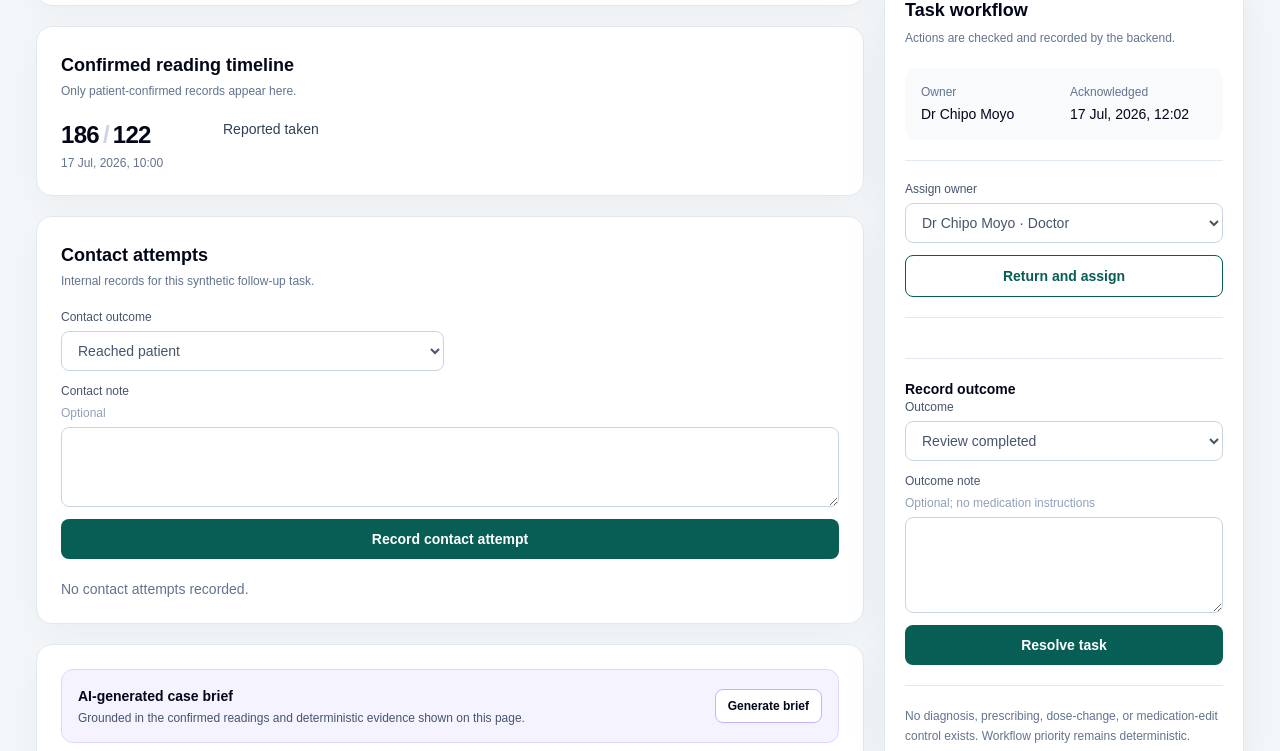
Test case: ClinicianTaskDetailPage › records contact and requires approval before simulated message sending
(page scrolled)
Check: the button "Record contact attempt" is shown, box x1=61 y1=519 x2=839 y2=559
Select "Message left" in the dropdown labelled "Contact outcome" at (252,351), box x1=61 y1=331 x2=444 y2=371
Type "Synthetic contact note." into the text box labelled "Contact note Optional" at (450,467), box x1=61 y1=427 x2=839 y2=507
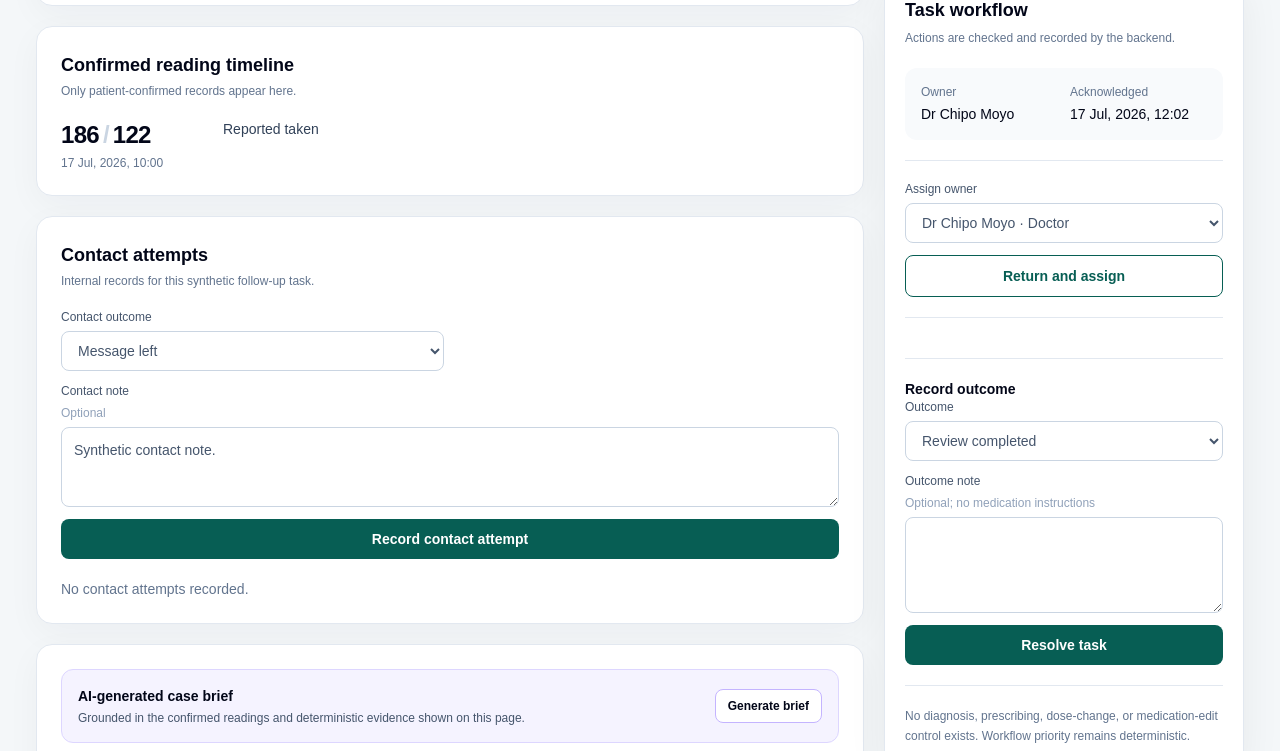
Click the button "Record contact attempt" at (450,539), box x1=61 y1=519 x2=839 y2=559
(page scrolled)
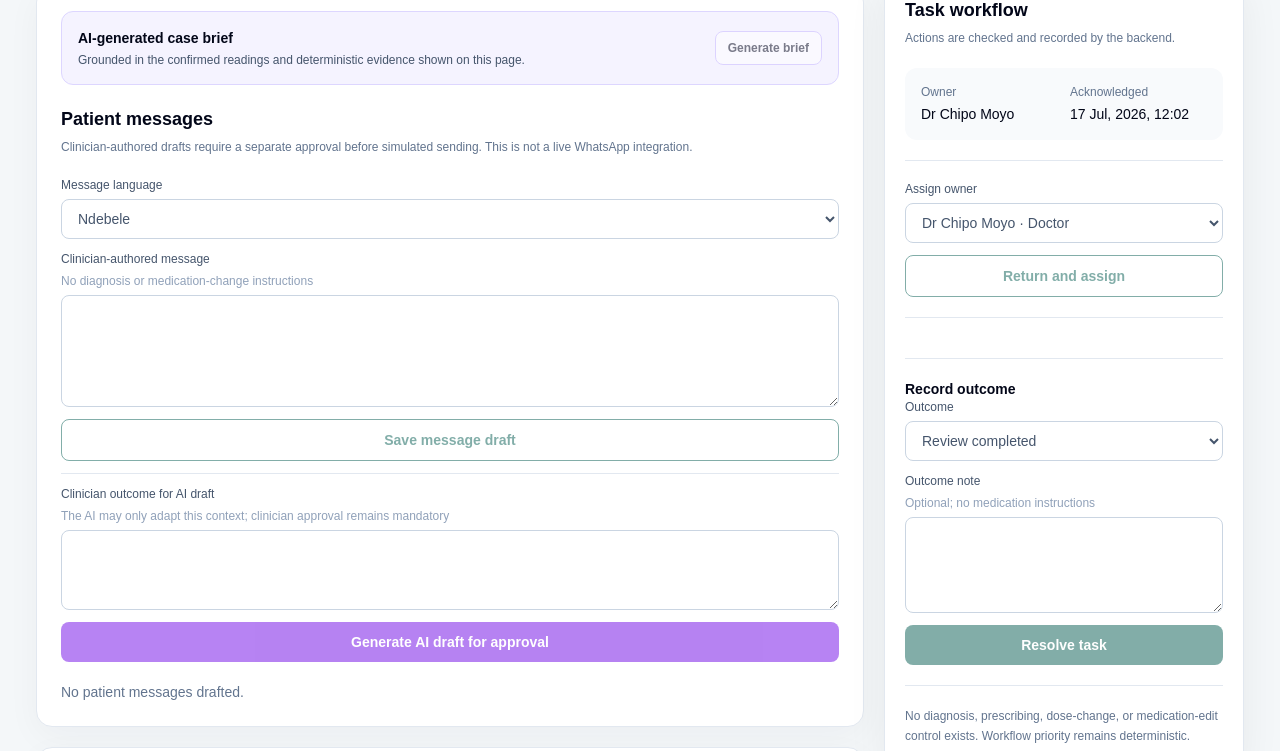
Type "Sicela ubuye eklinikhi." into the text box labelled "Clinician-authored message" at (450,351), box x1=61 y1=295 x2=839 y2=407
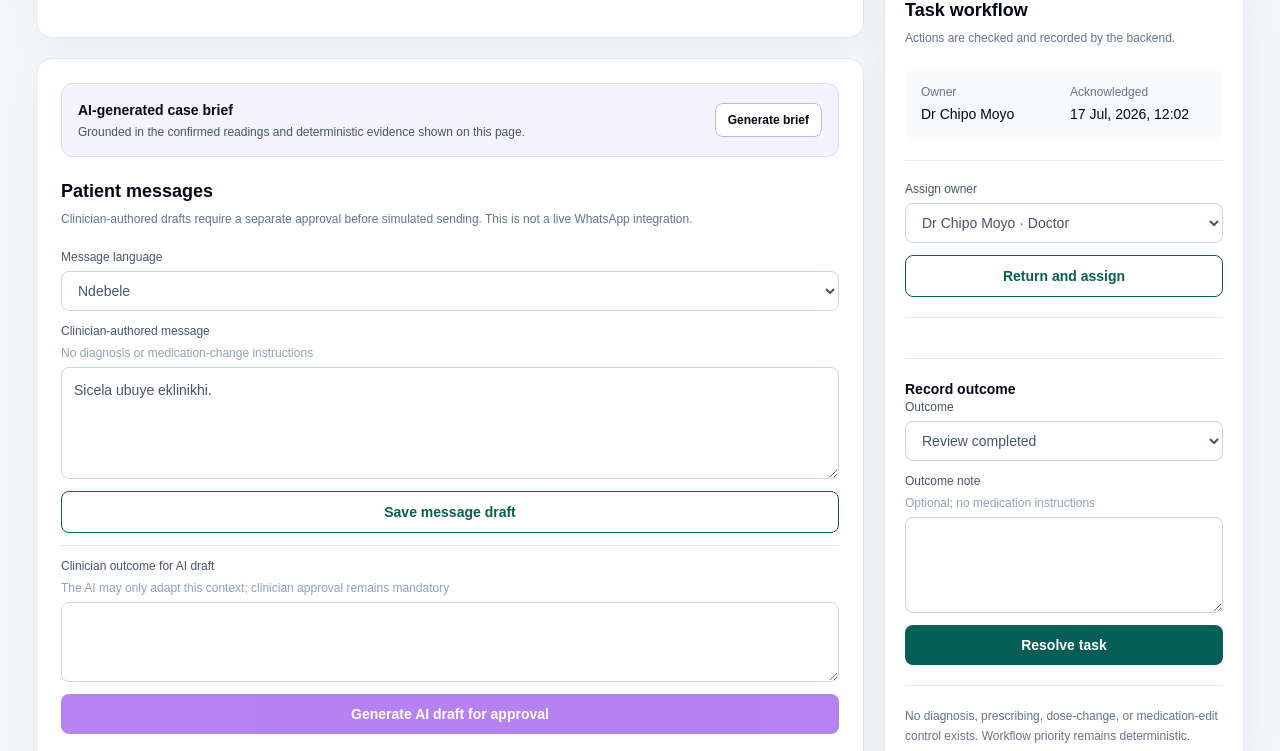
Click the button "Save message draft" at (450,512), box x1=61 y1=491 x2=839 y2=533
(page scrolled)
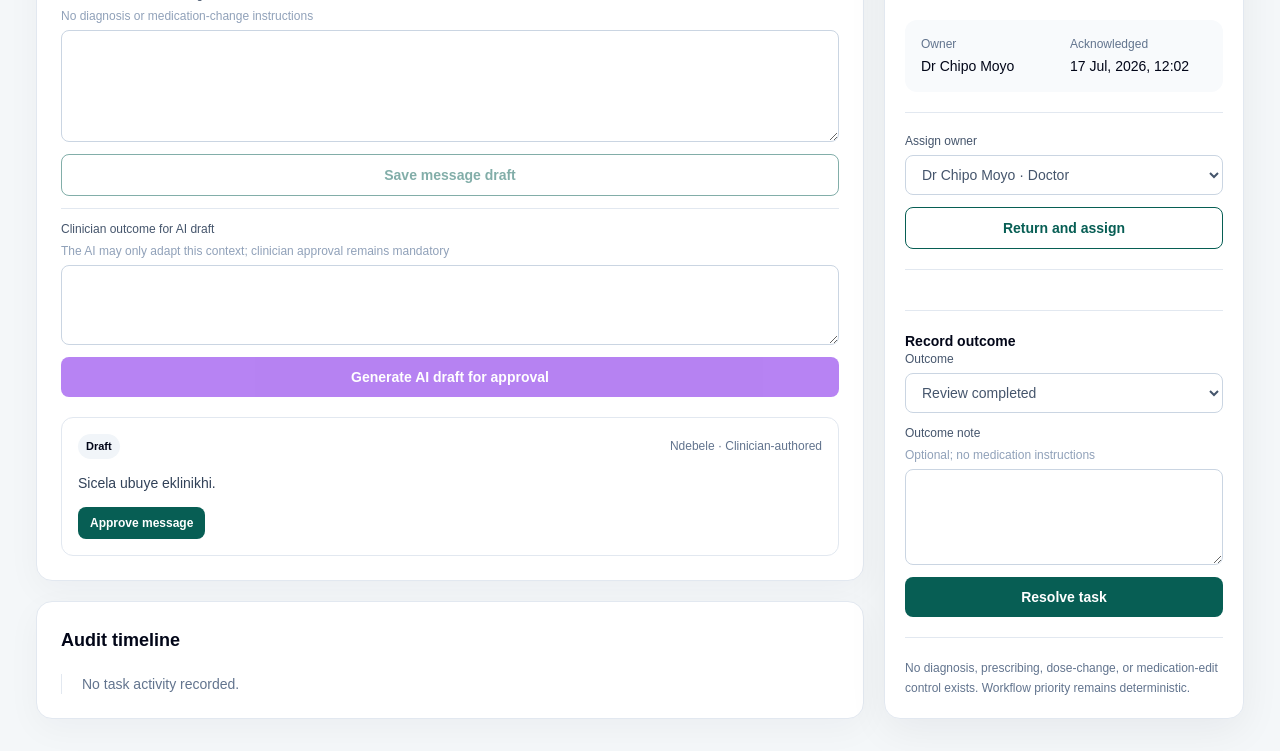
Click the button "Approve message" at (142,522), box x1=78 y1=506 x2=205 y2=538
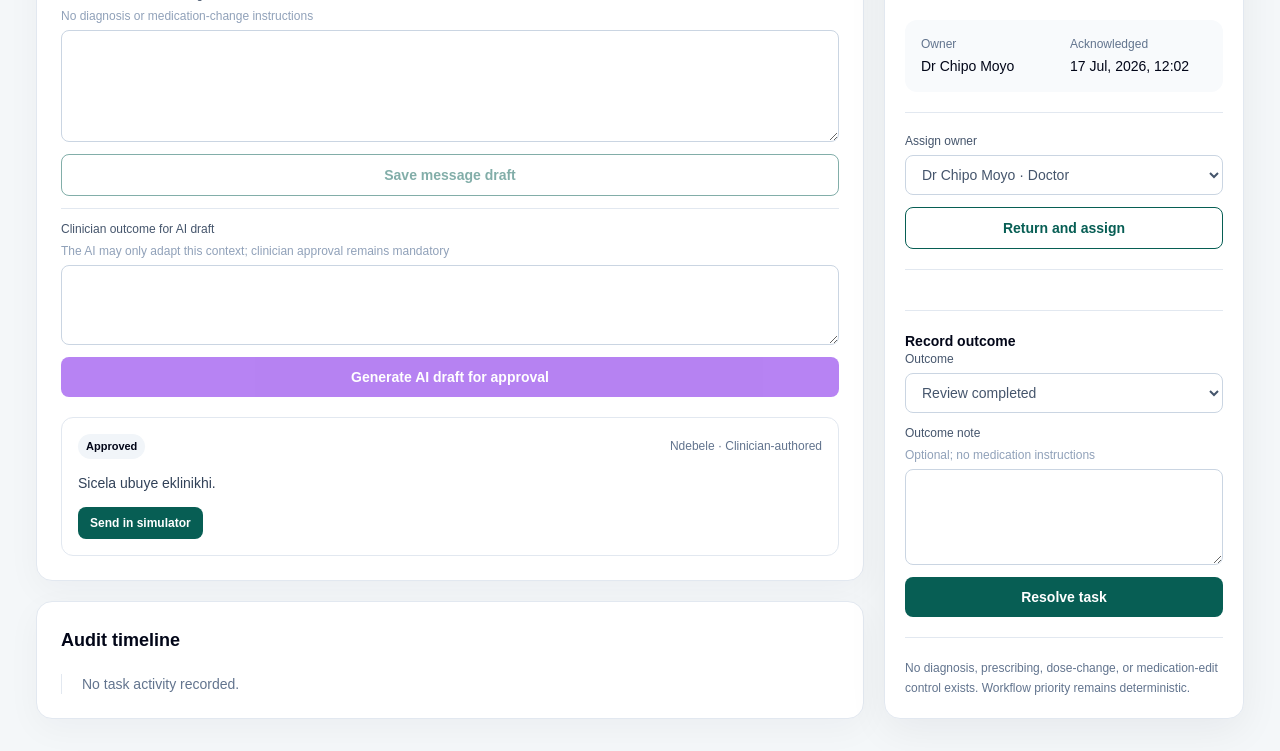
Click the button "Send in simulator" at (140,522), box x1=78 y1=506 x2=203 y2=538
(page scrolled)
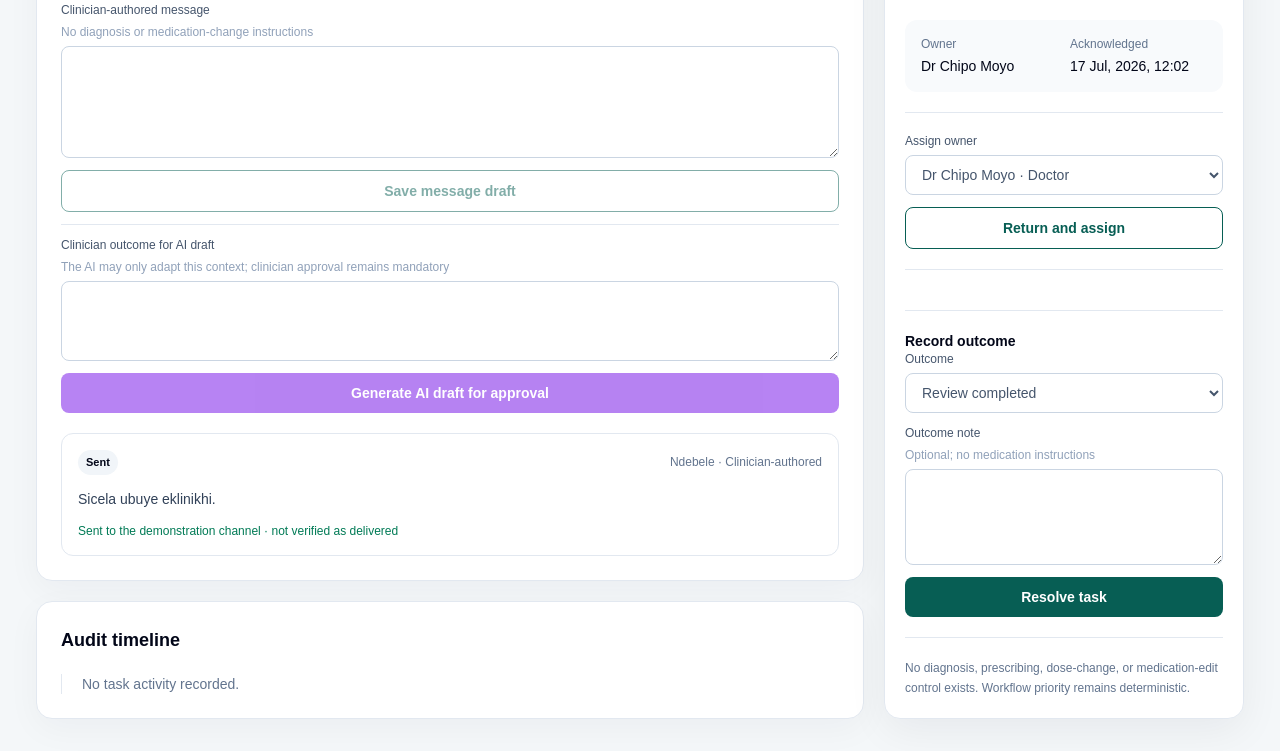
Check: the text "Sent to the demonstration channel" is shown, box x1=78 y1=524 x2=398 y2=538
